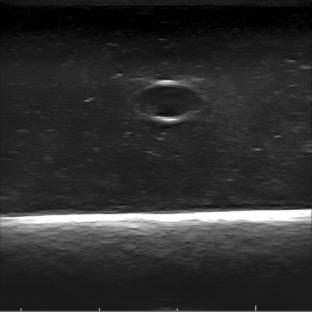vessel: (132, 78, 211, 122)
